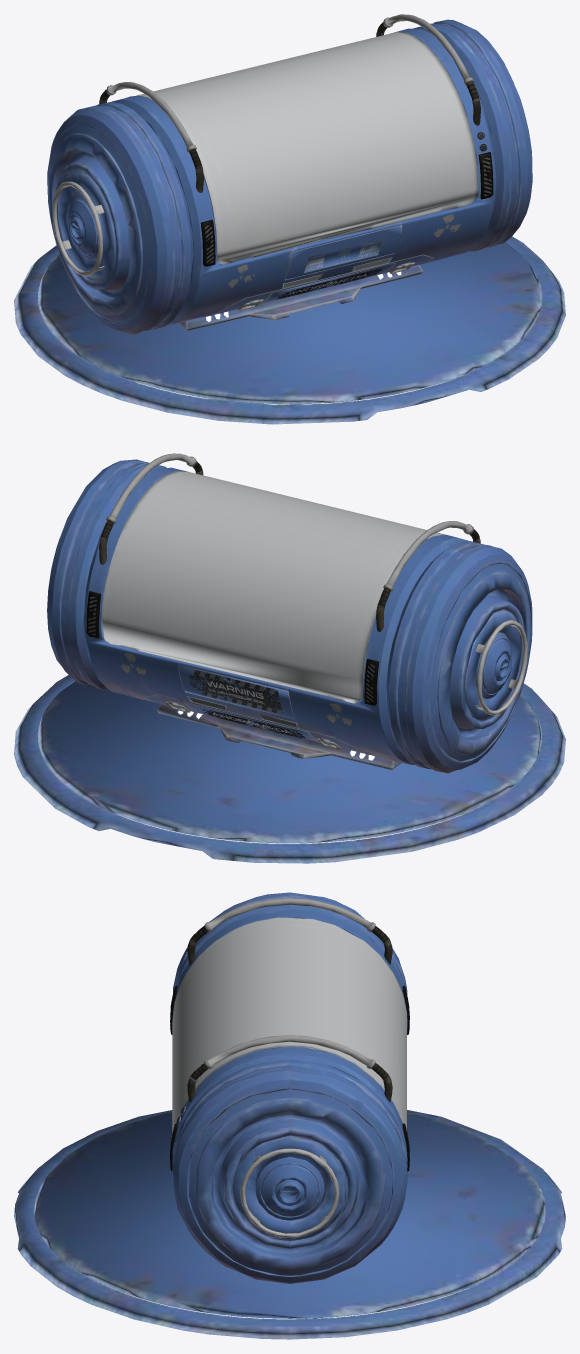
The model's file is treasure-chest.glb.
3 renders of one model, top to bottom at view 1: azimuth 30°, elevation 25°; view 2: azimuth 150°, elevation 25°; view 3: azimuth 270°, elevation 25°, orthographic.
Parts seen in each view (by area): view 1: Platform_Platform_0, lid.005_Glass lid_0, sides_Sides_0, main body_Main body_0, mainbody cutouts_Main body cutouts_0, handles_handles_0, side canisters_Side canisters_0, outer ring hold.003_side ring rails_0, pads_Pads_0, logo3_logo3_0; view 2: Platform_Platform_0, lid.005_Glass lid_0, sides_Sides_0, main body_Main body_0, mainbody cutouts_Main body cutouts_0, handles_handles_0, pressure_pressure_0, side canisters_Side canisters_0, outer ring hold.003_side ring rails_0, pads_Pads_0, logo3_logo3_0; view 3: Platform_Platform_0, sides_Sides_0, lid.005_Glass lid_0, main body_Main body_0, handles_handles_0, side canisters_Side canisters_0, outer ring hold.003_side ring rails_0, pads_Pads_0.
Boxes of the visible parts, x1,y1,x2,y2 form: Platform_Platform_0: (14,236,565,424); lid.005_Glass lid_0: (136,31,478,264); sides_Sides_0: (47,19,532,333); main body_Main body_0: (111,28,496,325); mainbody cutouts_Main body cutouts_0: (178,225,433,330); handles_handles_0: (99,14,480,192); side canisters_Side canisters_0: (67,193,103,259); outer ring hold.003_side ring rails_0: (52,181,104,276); pads_Pads_0: (200,152,493,266); logo3_logo3_0: (276,269,381,299); Platform_Platform_0: (14,675,565,863); lid.005_Glass lid_0: (101,471,446,703); sides_Sides_0: (47,459,532,773); main body_Main body_0: (83,467,467,764); mainbody cutouts_Main body cutouts_0: (146,664,401,770); handles_handles_0: (99,453,480,631); pressure_pressure_0: (188,670,282,714); side canisters_Side canisters_0: (476,632,511,698); outer ring hold.003_side ring rails_0: (475,620,527,715); pads_Pads_0: (86,591,378,705); logo3_logo3_0: (202,709,307,738); Platform_Platform_0: (14,1110,565,1339); sides_Sides_0: (172,892,407,1283); lid.005_Glass lid_0: (172,917,406,1132); main body_Main body_0: (172,909,407,1161); handles_handles_0: (187,898,392,1102); side canisters_Side canisters_0: (256,1156,324,1220); outer ring hold.003_side ring rails_0: (240,1148,339,1238); pads_Pads_0: (170,986,409,1171).
Size of the model in its own units: 4.75 by 2.38 by 4.69.
19 materials, 15 textured.
